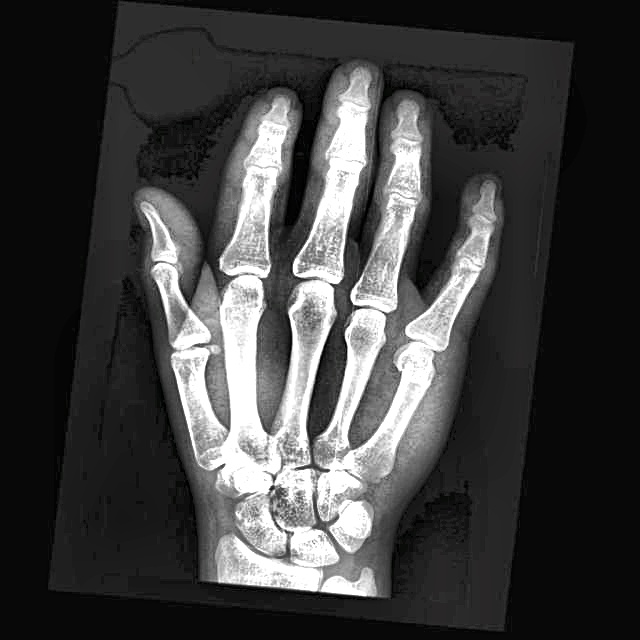Comminuted: (393, 346, 440, 391)
